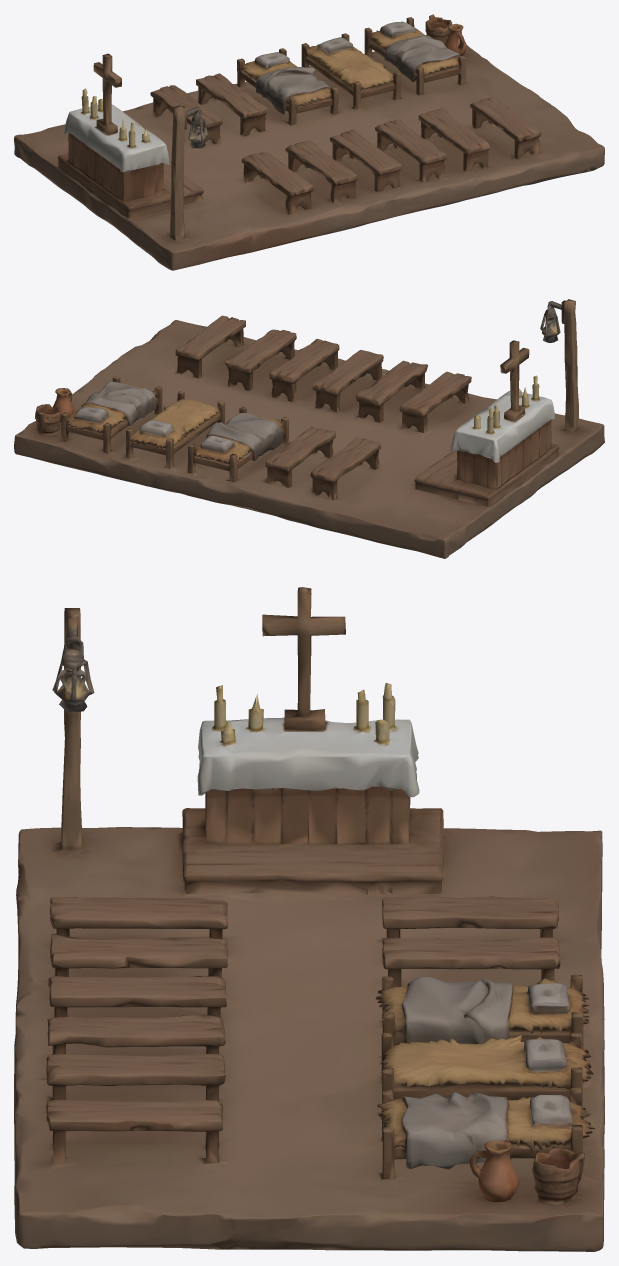
The model's file is 192cb28c-3be4-4e5e-aad6-1c78089dc3f1_model_url.glb.
The picture shows the model from 3 angles, top to bottom: view 1: azimuth 30°, elevation 25°; view 2: azimuth 150°, elevation 25°; view 3: azimuth 270°, elevation 25°; orthographic projection. The views are drawn at different scales.
Parts seen in each view (by area): view 1: tripo_node_192cb28c-3be4-4e5e-aad6-1c78089dc3f1; view 2: tripo_node_192cb28c-3be4-4e5e-aad6-1c78089dc3f1; view 3: tripo_node_192cb28c-3be4-4e5e-aad6-1c78089dc3f1.
Part boxes in pixels (x1,y1,x2,y2): tripo_node_192cb28c-3be4-4e5e-aad6-1c78089dc3f1: (14, 14, 604, 270); tripo_node_192cb28c-3be4-4e5e-aad6-1c78089dc3f1: (14, 299, 604, 558); tripo_node_192cb28c-3be4-4e5e-aad6-1c78089dc3f1: (14, 587, 604, 1251).
Size of the model in its own units: 1 by 0.3432 by 0.6399.
1 material, 1 textured.
